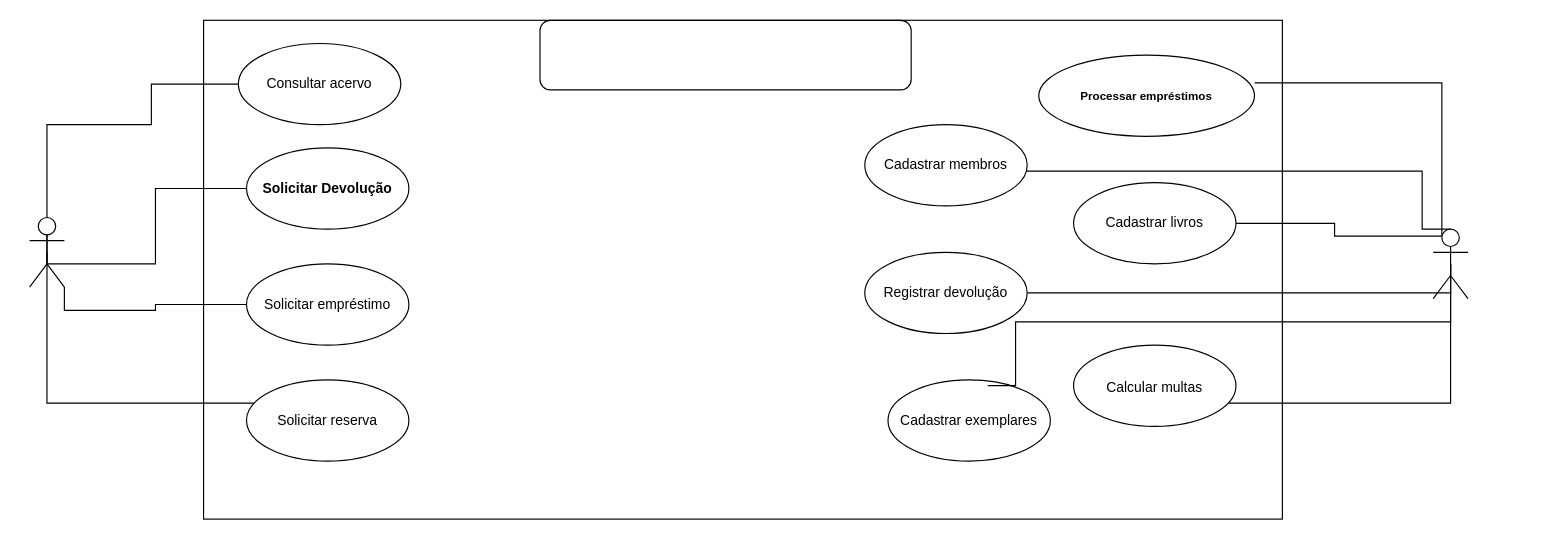
This 1563x539 diagram has some shape labels left out. Here are the shapes that lost their labels. From the top down, the centre of each, then its label:
(725,54): Sistema de Gestão de Biblioteca Universitária
(46,251): Membro
(1450,263): Bibliotecário/Administrador
